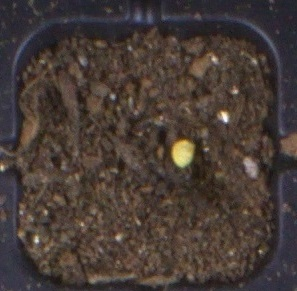chilli seed: (170, 139, 195, 170)
